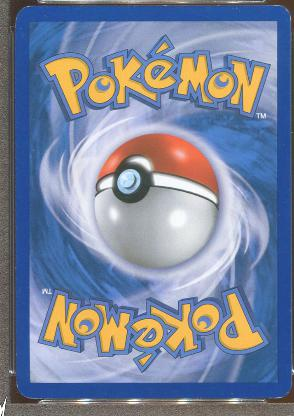Card: (12, 3, 292, 401)
Corner Wear: (21, 394, 45, 400), (271, 4, 288, 12), (14, 376, 17, 390), (266, 396, 282, 398), (290, 374, 291, 388), (285, 391, 288, 395)
Edge Wear: (23, 4, 48, 8), (287, 12, 290, 32), (14, 265, 19, 271), (15, 16, 17, 30)
